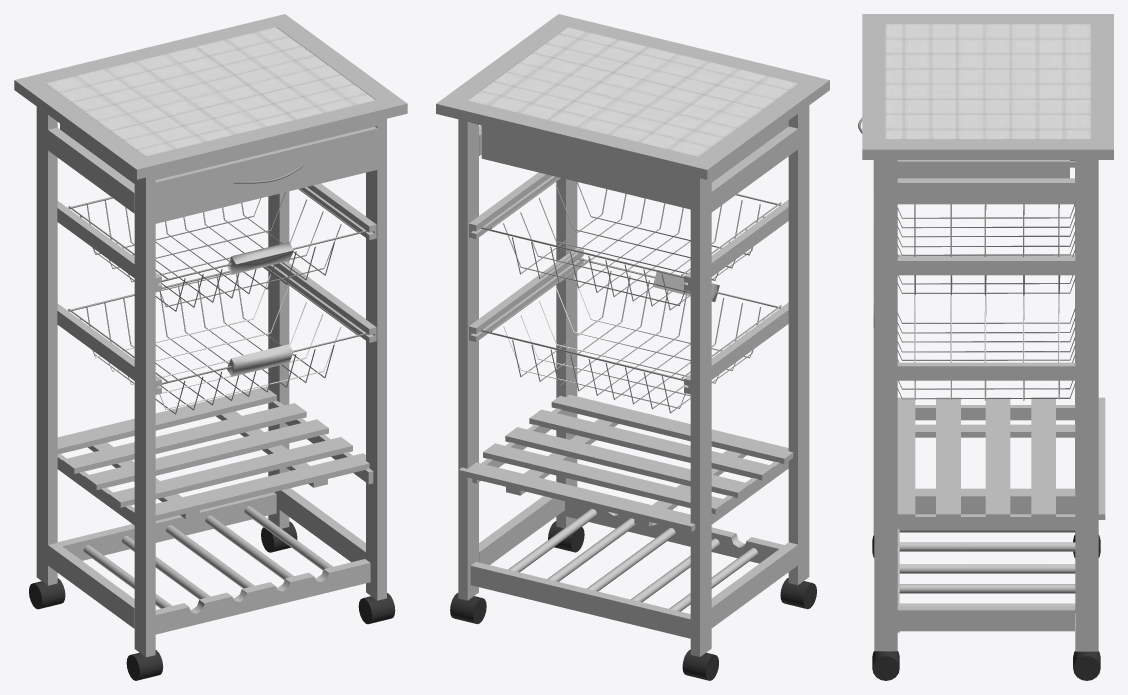
Rendered from desserte.obj.
The picture shows the model from 3 angles, left to right: view 1: azimuth 30°, elevation 25°; view 2: azimuth 150°, elevation 25°; view 3: azimuth 270°, elevation 25°; orthographic projection. The views are drawn at different scales.
Parts seen in each view (by area): view 1: Cube_13_53, Cube_3_5, Cube_3_1_6, Cube_8_1_15, Cube_3_2_7, Cube_1_1_2, Boolean_4_57, Cube_3_3_8, Cube_10_4_23, Cube_10_3_22, Cube_10_5_24, Cube_10_1_20 (+27 smaller); view 2: Cube_13_53, Cube_3_1_6, Cube_3_5, Cube_3_3_8, Cube_8_14, Cube_1_1, Cube_11_27, Cube_3_2_7, Cube_10_19, Cube_10_4_23, Cube_10_5_24, Cube_10_3_22 (+25 smaller); view 3: Cube_13_53, Cube_3_3_8, Cube_3_2_7, Cube_5_1_12, Cube_5_2_54, Cube_2_1_4, Cube_1_1, Cube_1_1_2, Boolean_6_84, Boolean_7_85, Cube_10_5_24, Cube_8_2_16 (+18 smaller).
Part boxes in pixels (box(x1,y1,x2,y2)): Cube_13_53: box(46, 27, 375, 156); Cube_3_5: box(134, 175, 155, 657); Cube_3_1_6: box(36, 107, 57, 585); Cube_8_1_15: box(155, 128, 369, 223); Cube_3_2_7: box(366, 119, 386, 600); Cube_1_1_2: box(125, 95, 407, 179); Boolean_4_57: box(155, 559, 370, 634); Cube_3_3_8: box(268, 191, 289, 528); Cube_10_4_23: box(108, 437, 352, 507); Cube_10_3_22: box(62, 403, 306, 473); Cube_10_5_24: box(84, 419, 328, 490); Cube_10_1_20: box(130, 453, 369, 520); Cube_13_53: box(468, 27, 798, 156); Cube_3_1_6: box(690, 176, 711, 656); Cube_3_5: box(788, 105, 809, 585); Cube_3_3_8: box(458, 119, 478, 600); Cube_8_14: box(481, 125, 690, 209); Cube_1_1: box(436, 95, 718, 179); Cube_11_27: box(470, 562, 690, 638); Cube_3_2_7: box(556, 178, 577, 528); Cube_10_19: box(459, 462, 695, 531); Cube_10_4_23: box(529, 409, 774, 480); Cube_10_5_24: box(505, 427, 749, 497); Cube_10_3_22: box(483, 443, 727, 514); Cube_13_53: box(885, 24, 1090, 139); Cube_3_3_8: box(1075, 160, 1098, 651); Cube_3_2_7: box(874, 160, 897, 651); Cube_5_1_12: box(897, 178, 1074, 204); Cube_5_2_54: box(897, 605, 1074, 631); Cube_2_1_4: box(885, 140, 1090, 159); Cube_1_1: box(1090, 14, 1113, 159); Cube_1_1_2: box(862, 14, 885, 159); Boolean_6_84: box(897, 257, 1075, 275); Boolean_7_85: box(897, 362, 1075, 380); Cube_10_5_24: box(985, 397, 1010, 519); Cube_8_2_16: box(897, 160, 1059, 178).
Bounding box in the file's own units: 46.7 × 85.84 × 37.22.
